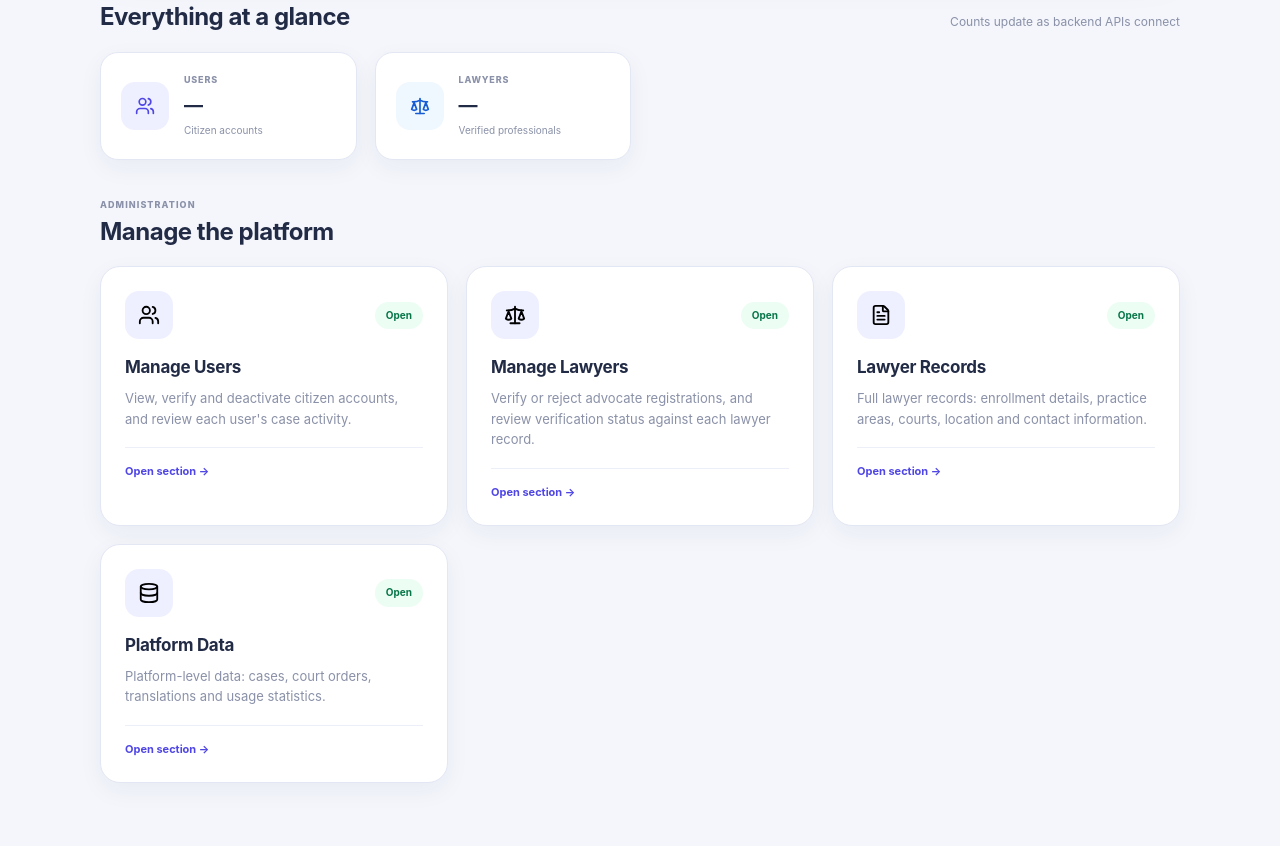
Test: the registrations list › renders the stored status, the papers and the counts
The image size is (1280, 846).
(page scrolled)
Click the button "Manage Lawyers" at (640, 396), box [466,266,814,526]
(page scrolled)
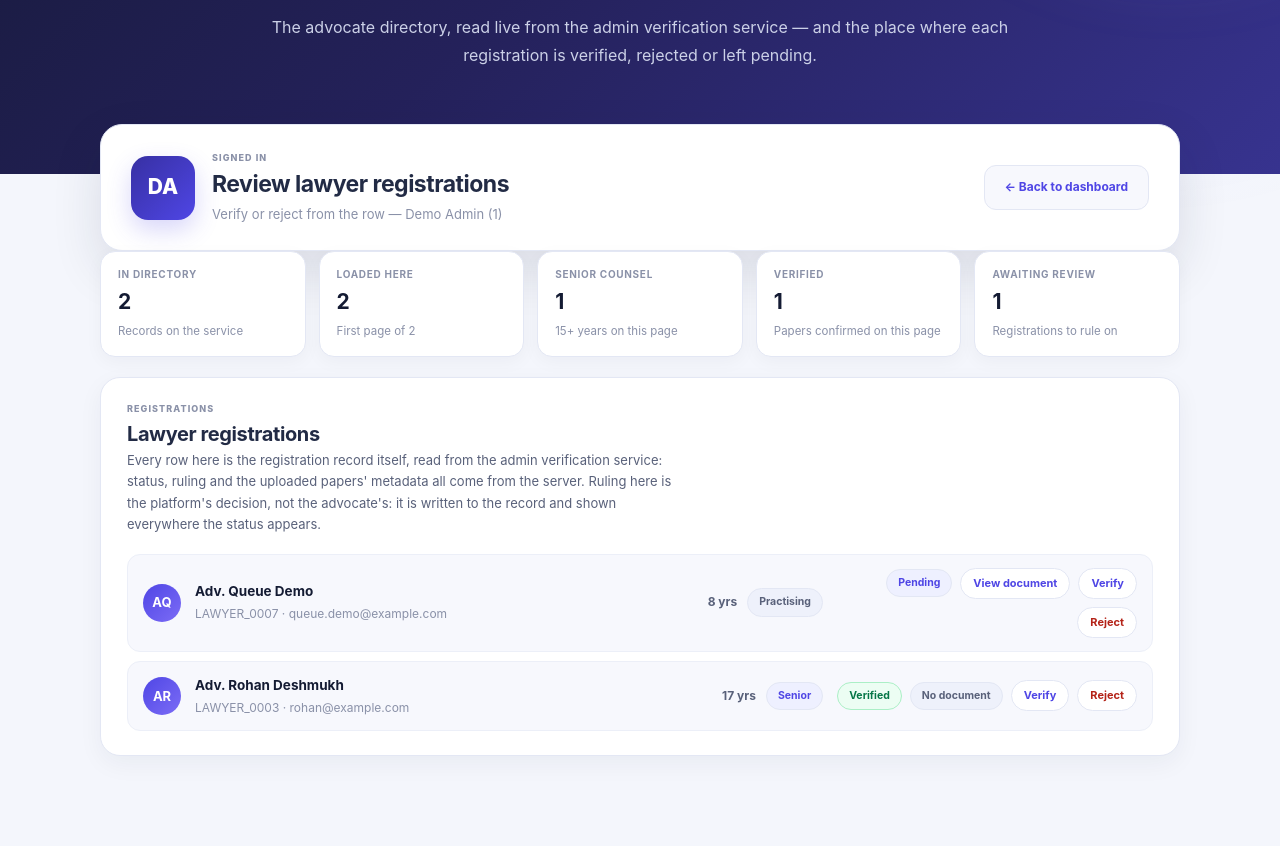
Expected: the text "Adv. Queue Demo" is shown, [195,583,313,599]
Expected: the text "Pending" is shown, [886,569,952,597]
Expected: the text "Verified" is shown, [837,682,902,710]
